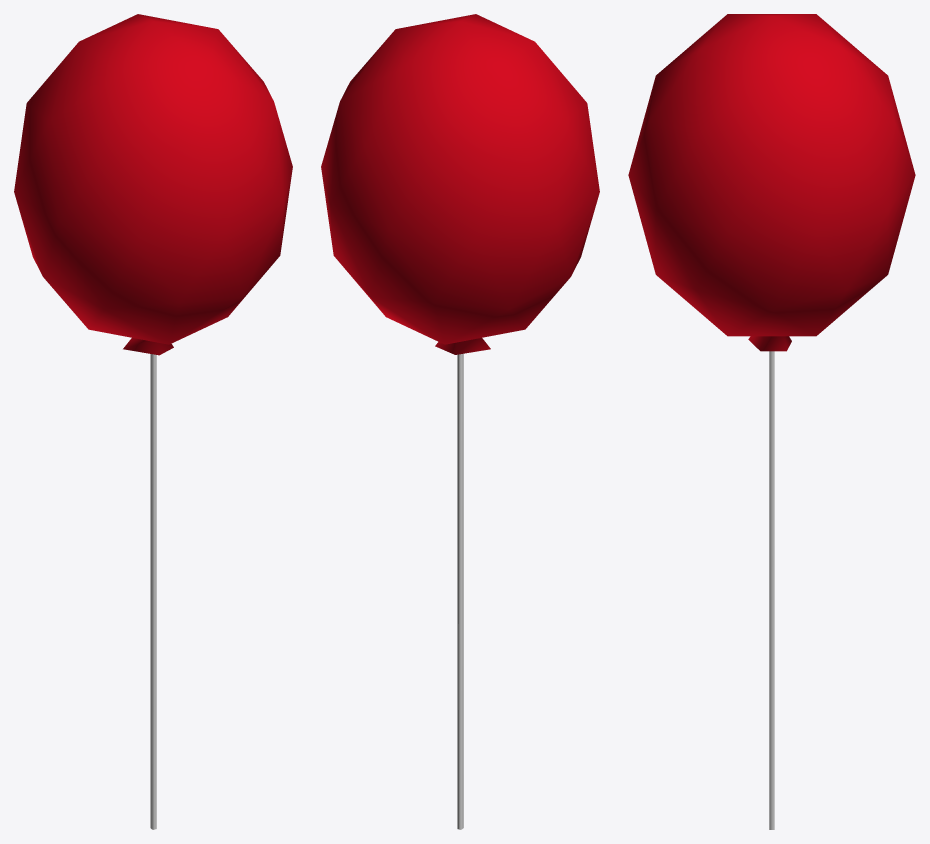
The model's file is balloon.fbx.
The picture shows the model from 3 angles, left to right: view 1: azimuth 30°, elevation 25°; view 2: azimuth 150°, elevation 25°; view 3: azimuth 270°, elevation 25°; orthographic projection.
Visible parts, largest first — view 1: Icosphere, Cube; view 2: Icosphere, Cube; view 3: Icosphere, Cube.
Boxes of the visible parts, left/top/right/bottom form: Icosphere: left=14, top=14, right=292, bottom=355; Cube: left=150, top=354, right=156, bottom=829; Icosphere: left=321, top=14, right=599, bottom=354; Cube: left=457, top=353, right=463, bottom=829; Icosphere: left=628, top=14, right=915, bottom=351; Cube: left=769, top=351, right=774, bottom=829.
Bounding box in the file's own units: 2.12 × 6.97 × 2.23.
